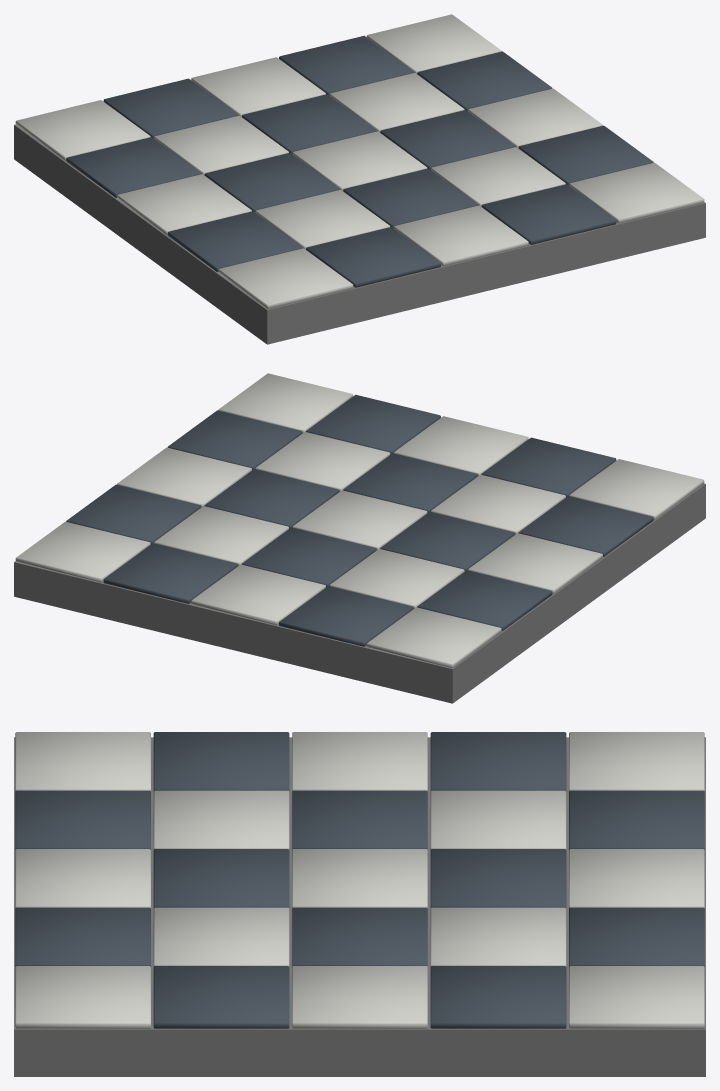
The model's file is Floor_Tile_2m.glb.
3 renders of one model, top to bottom at view 1: azimuth 30°, elevation 25°; view 2: azimuth 150°, elevation 25°; view 3: azimuth 270°, elevation 25°, orthographic. The views are drawn at different scales.
Parts seen in each view (by area): view 1: Floor_Tile_2m; view 2: Floor_Tile_2m; view 3: Floor_Tile_2m.
Part boxes in pixels (x1,y1,x2,y2): Floor_Tile_2m: [14, 14, 705, 344]; Floor_Tile_2m: [14, 373, 705, 703]; Floor_Tile_2m: [14, 732, 705, 1076].
Bounding box in the file's own units: 2 × 0.17 × 2.
